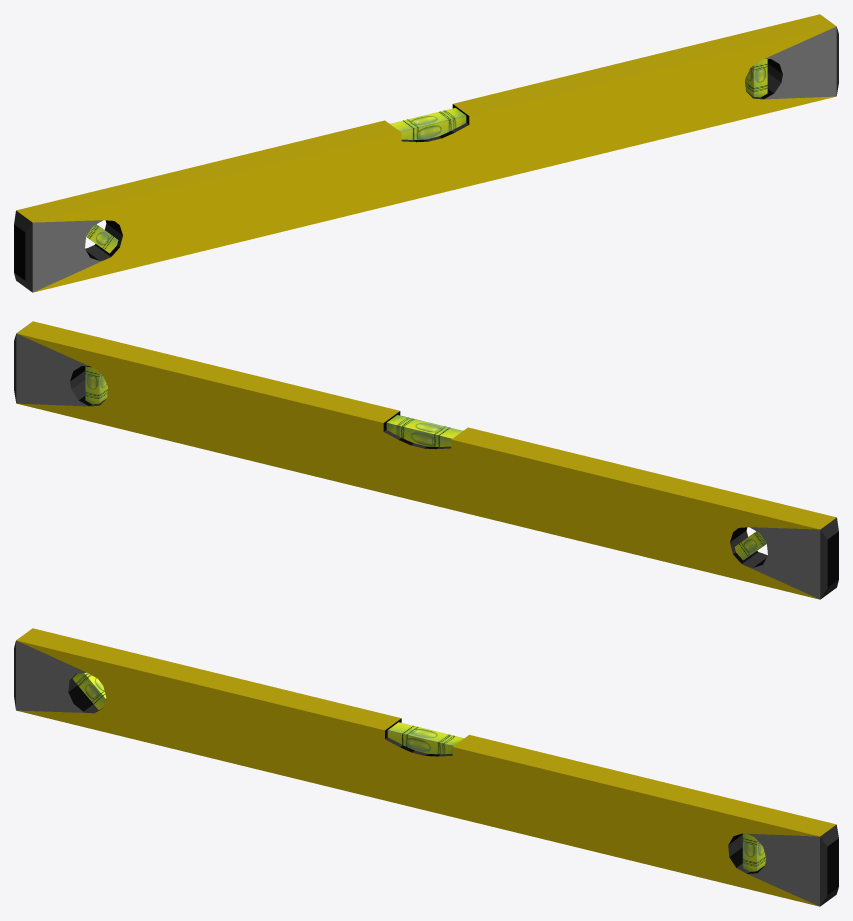
File: WorldItem_SpiritLevel.fbx
3 renders of one model, top to bottom at view 1: azimuth 30°, elevation 25°; view 2: azimuth 150°, elevation 25°; view 3: azimuth 330°, elevation 25°, orthographic.
Parts seen in each view (by area): view 1: ZomboidSpiritLevel; view 2: ZomboidSpiritLevel; view 3: ZomboidSpiritLevel.
Boxes of the visible parts, x1,y1,x2,y2 form: ZomboidSpiritLevel: (14,14,838,292); ZomboidSpiritLevel: (14,321,838,599); ZomboidSpiritLevel: (14,628,838,906).
Bounding box in the file's own units: 0.5674 × 0.0468 × 0.0201.
